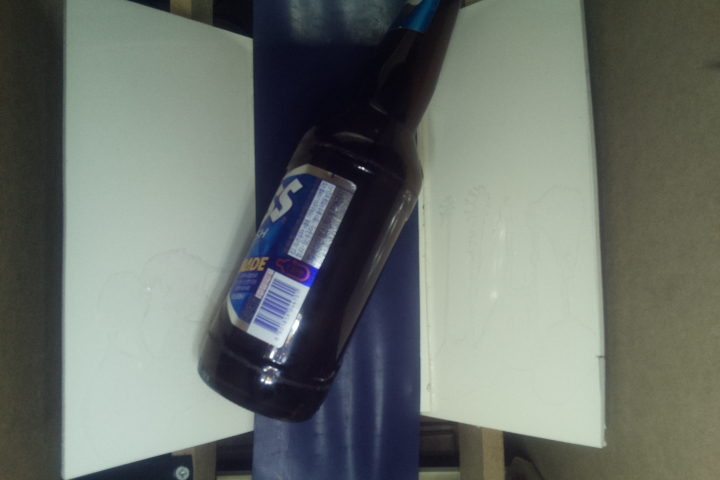makju: (197, 1, 478, 423)
